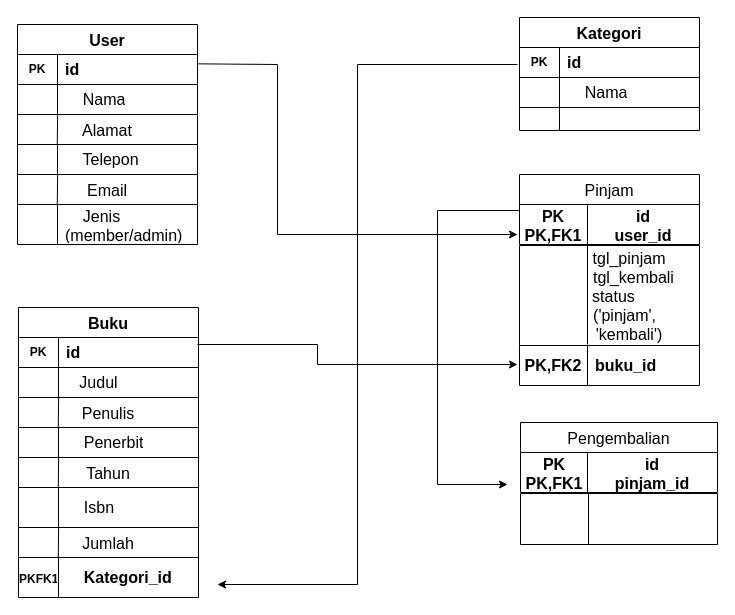
This 735x615 diagram has some shape labels left out. Here are the shapes that lost their labels. From the top down, the centre of each, then its label:
(609,118): Deskripsi
(619,518): tgl_kembali denda
